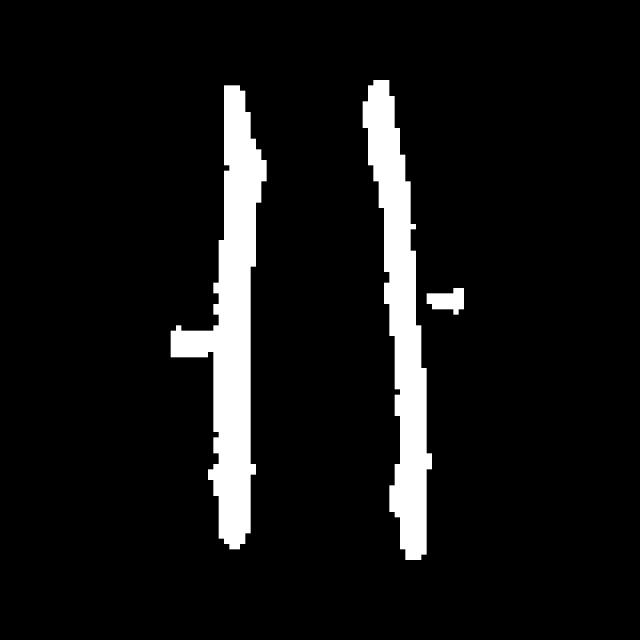capacitor: (210, 71, 450, 570)
